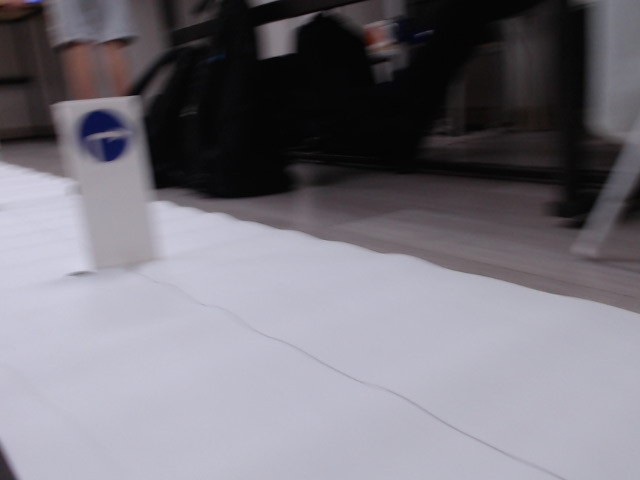Right: (77, 109, 132, 161)
